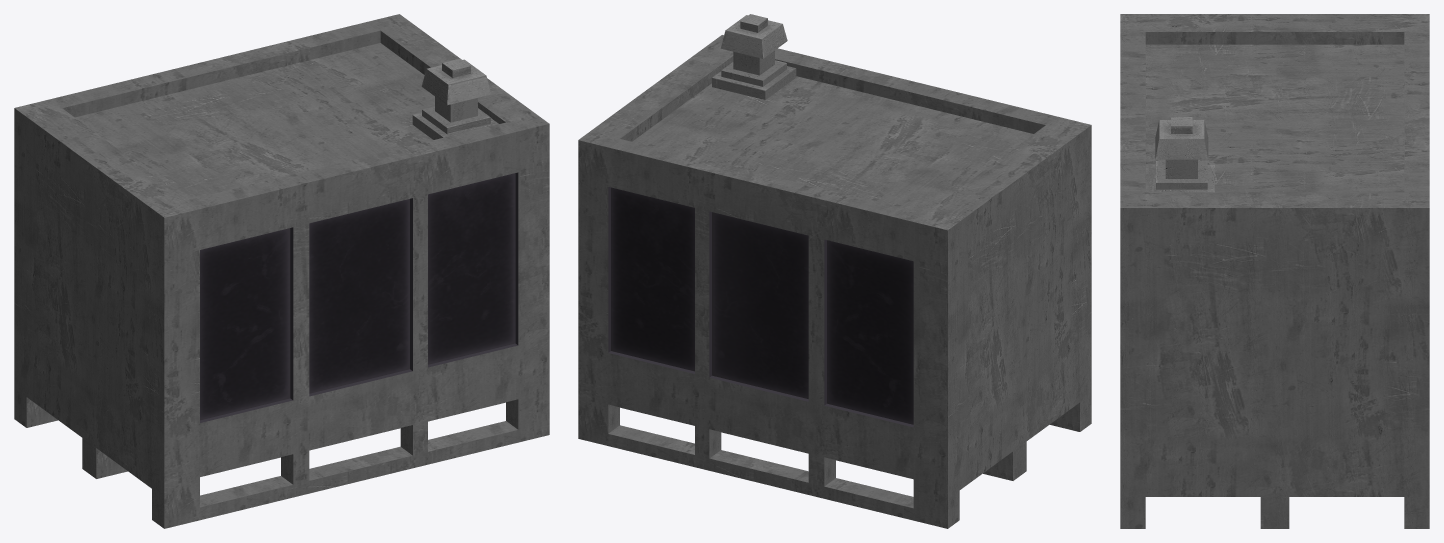
File: RoofBox.fbx
3 renders of one model, left to right at view 1: azimuth 30°, elevation 25°; view 2: azimuth 150°, elevation 25°; view 3: azimuth 270°, elevation 25°, orthographic. The views are drawn at different scales.
Visible parts, largest first — view 1: Cube.006; view 2: Cube.006; view 3: Cube.006.
Part boxes in pixels (box(x1,y1,x2,y2)): Cube.006: box(14, 14, 549, 528); Cube.006: box(578, 14, 1091, 528); Cube.006: box(1120, 14, 1429, 528).
Bounding box in the file's own units: 218 × 197 × 147.
3 materials, 3 textured.
